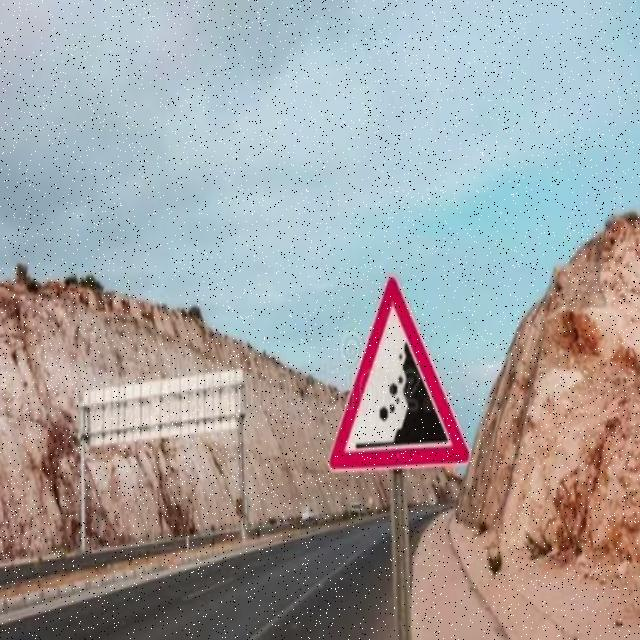falling_rocks: (324, 274, 484, 479)
